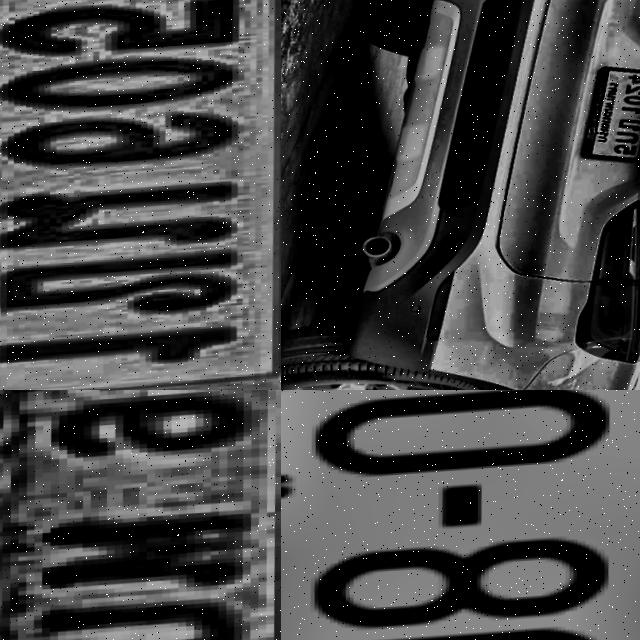license-plate: (0, 0, 281, 390), (281, 390, 640, 640), (0, 390, 281, 640), (573, 62, 640, 169)
